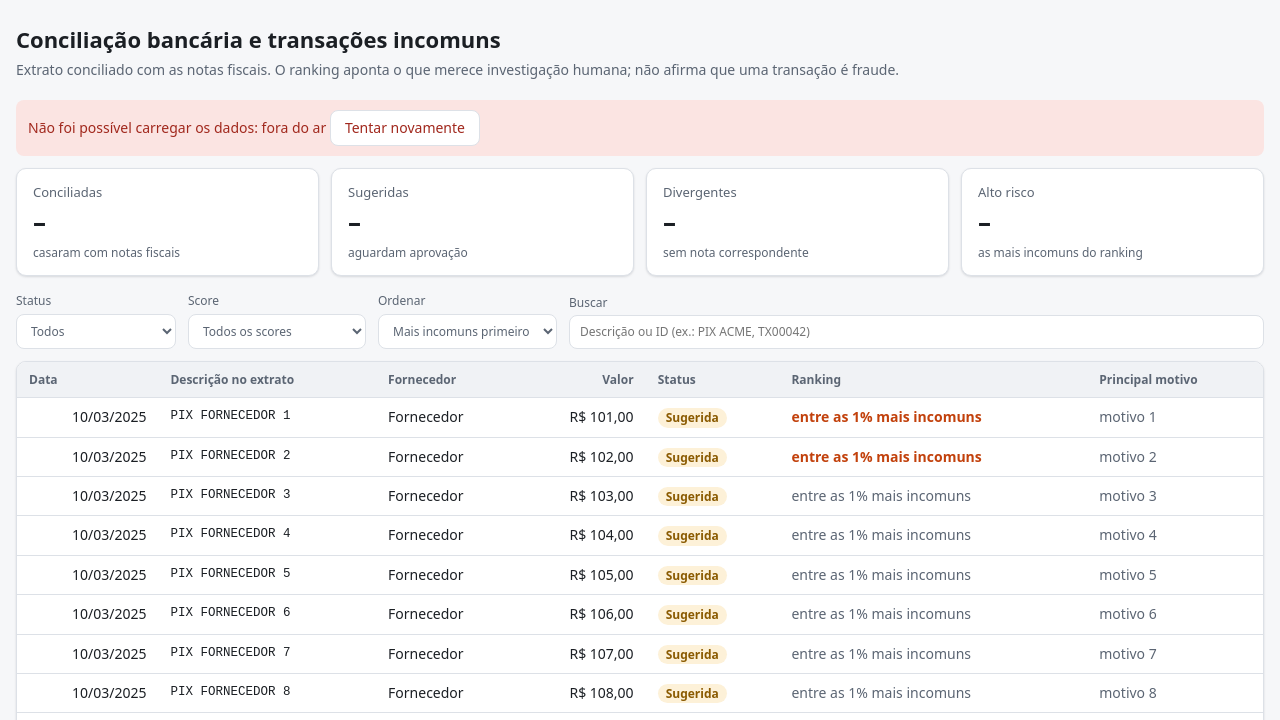
Scenario: Dashboard › offers a retry when loading fails
Click the button "Tentar novamente" at (405, 128), box [330, 110, 480, 146]
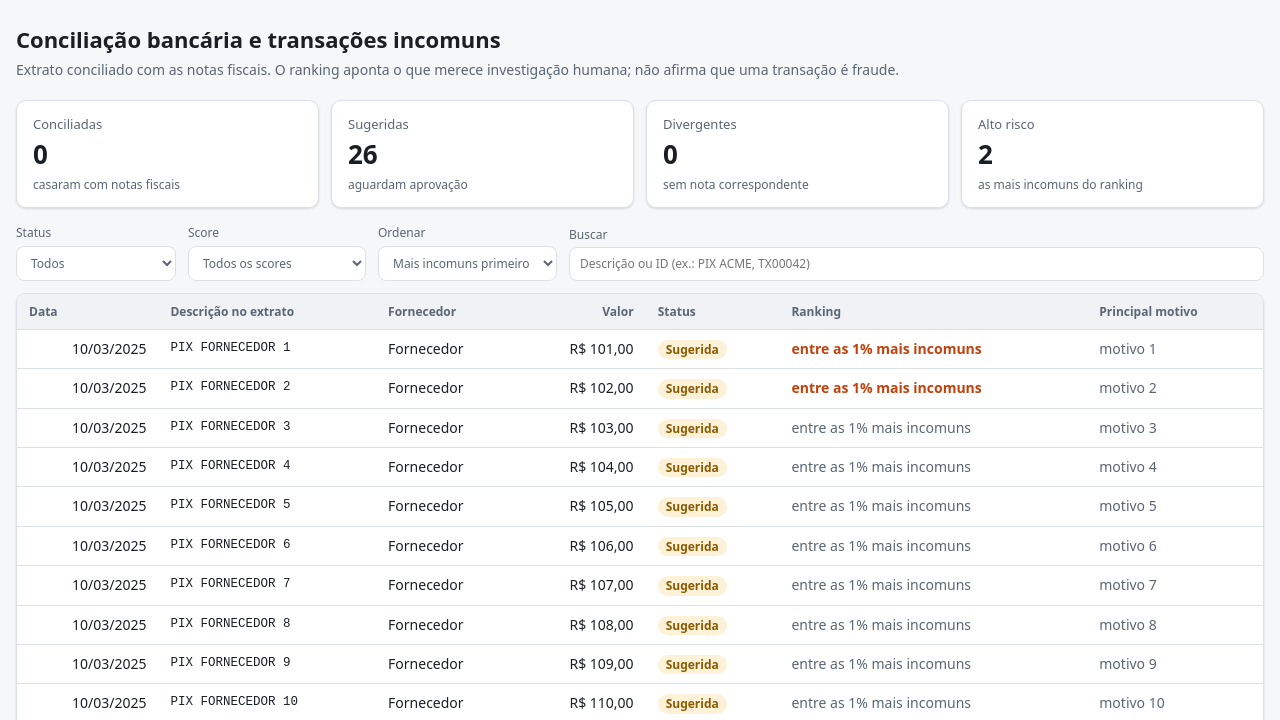
Now the button "Tentar novamente" is gone
Now the text "26" is shown, box [348, 136, 378, 174]
